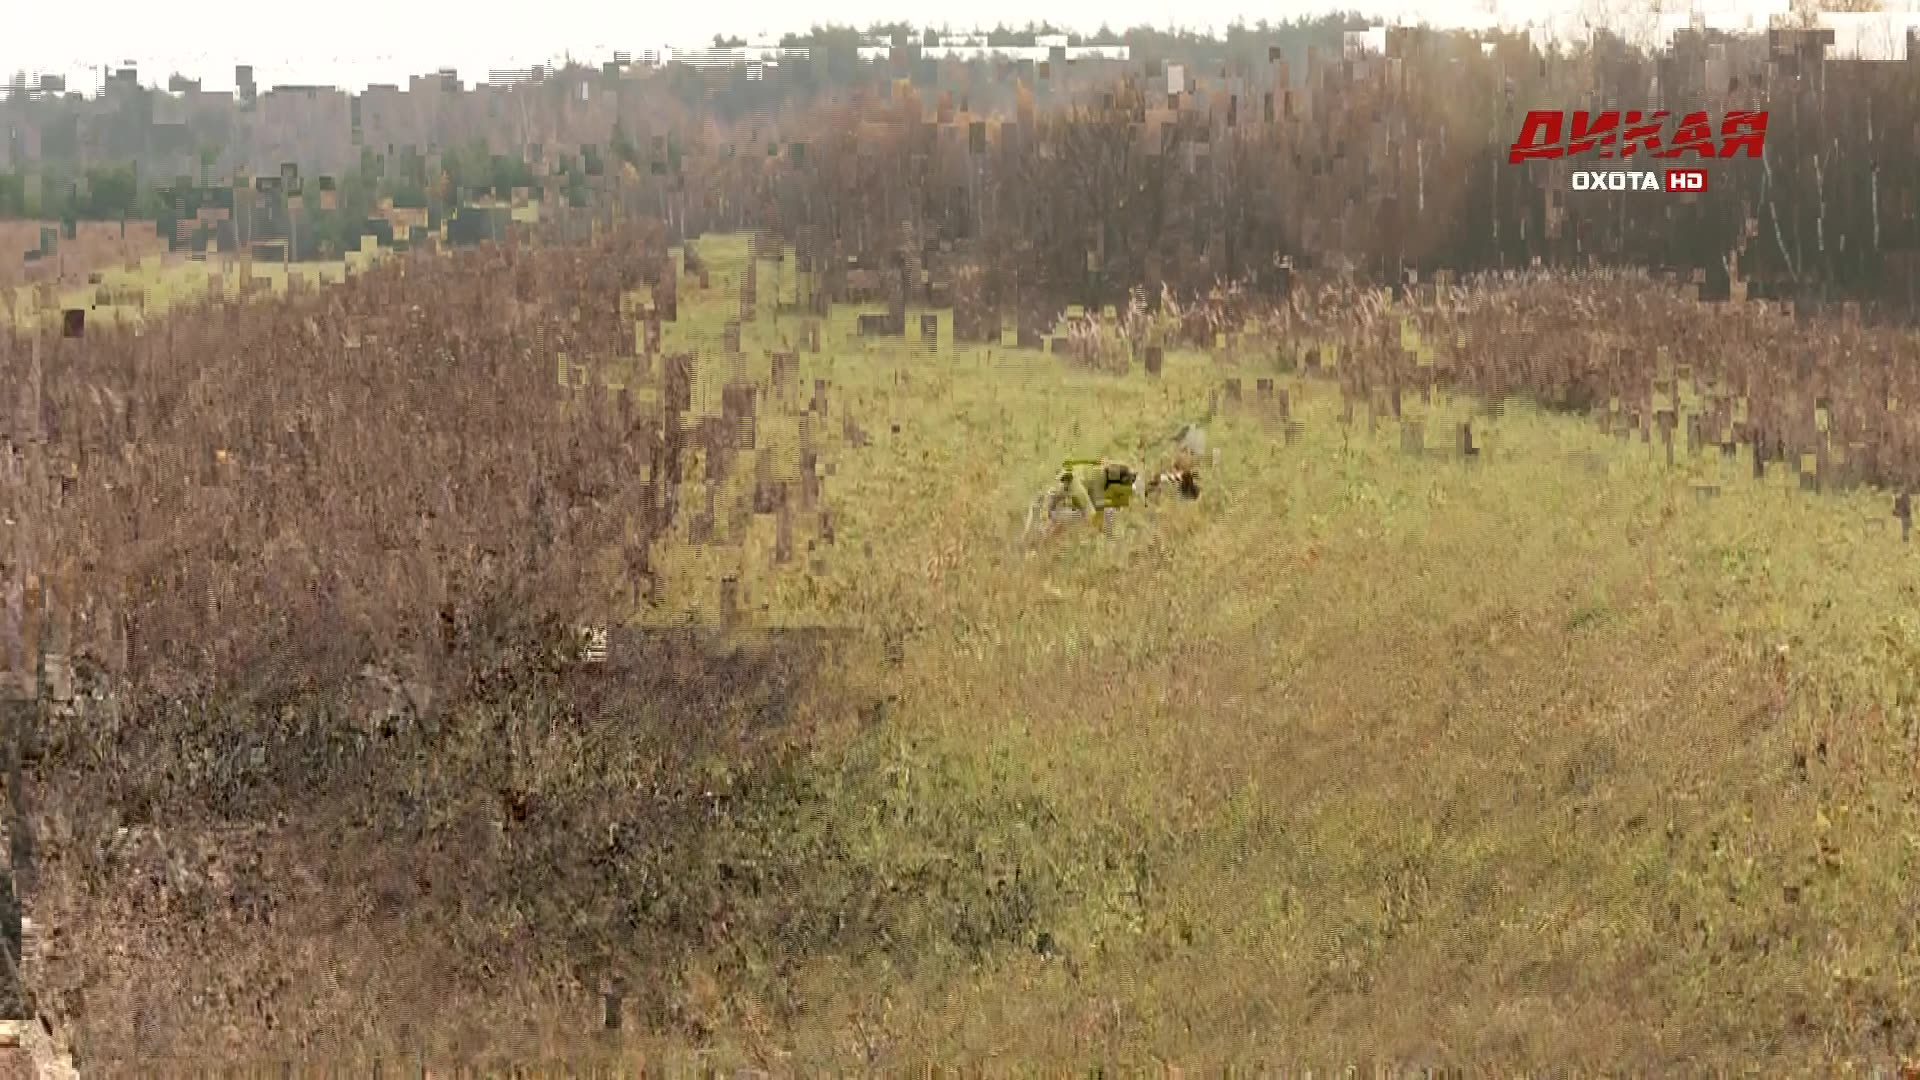Dikaya_Ohota_HD: (1505, 103, 1776, 199)
